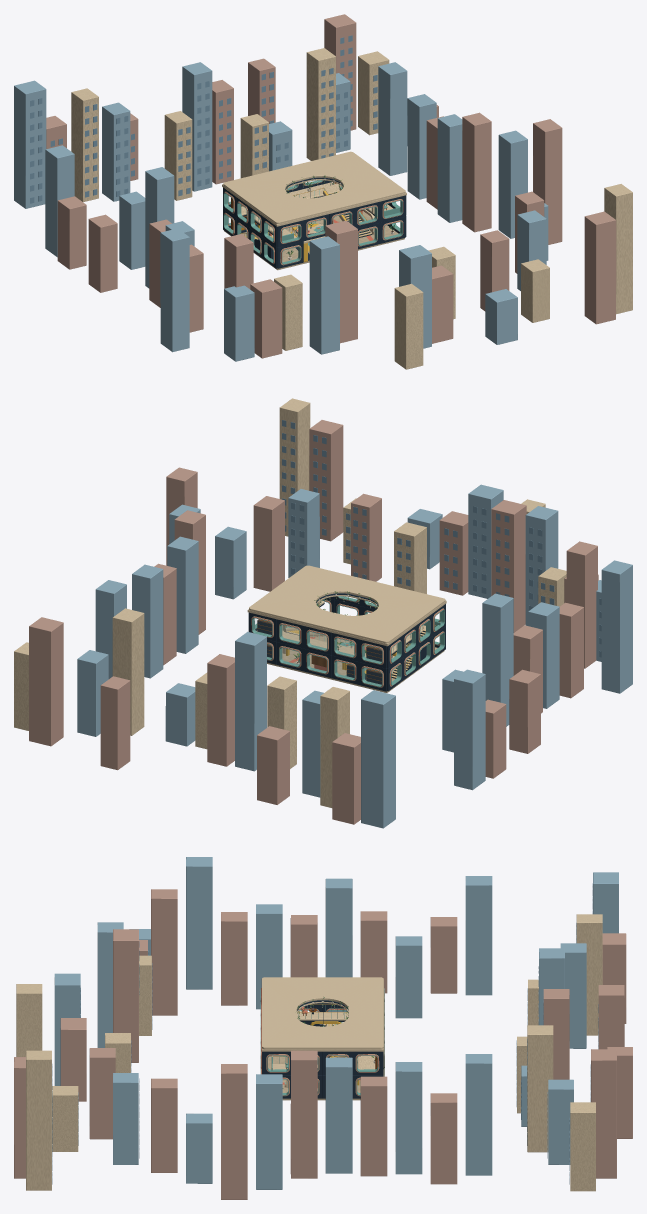
File: atrium-desktop.glb
The picture shows the model from 3 angles, top to bottom: view 1: azimuth 30°, elevation 25°; view 2: azimuth 150°, elevation 25°; view 3: azimuth 270°, elevation 25°; orthographic projection. The views are drawn at different scales.
Visible parts, largest first — view 1: Atrium_CityBlue_north, Atrium_CityBlue_south, Atrium_CityRose_south, Atrium_Ivory_north, Atrium_Ivory_interior, Atrium_Ivory_south, Atrium_CityRose_north, Atrium_CityBlue_east, Atrium_CityRose_east, Atrium_CityWindow_north, Atrium_CityRose_west, Atrium_CityBlue_west (+4 smaller); view 2: Atrium_CityBlue_north, Atrium_CityRose_south, Atrium_CityRose_north, Atrium_CityBlue_south, Atrium_Ivory_interior, Atrium_Ivory_north, Atrium_CityBlue_west, Atrium_CityRose_west, Atrium_Ivory_south, Atrium_CityBlue_east, Atrium_Navy_interior, Atrium_CityRose_east (+5 smaller); view 3: Atrium_CityRose_south, Atrium_CityRose_north, Atrium_CityBlue_north, Atrium_CityBlue_south, Atrium_CityRose_east, Atrium_CityBlue_east, Atrium_Ivory_interior, Atrium_Ivory_south, Atrium_Ivory_north, Atrium_CityBlue_west, Atrium_CityRose_west, Atrium_Navy_interior (+3 smaller).
Boxes of the visible parts, x1,y1,x2,y2 form: Atrium_CityBlue_north: [14, 62, 407, 257]; Atrium_CityBlue_south: [160, 203, 548, 361]; Atrium_CityRose_south: [224, 191, 616, 358]; Atrium_Ivory_north: [71, 48, 389, 202]; Atrium_Ivory_interior: [222, 151, 406, 265]; Atrium_Ivory_south: [274, 184, 632, 369]; Atrium_CityRose_north: [46, 14, 438, 269]; Atrium_CityBlue_east: [407, 94, 527, 238]; Atrium_CityRose_east: [426, 112, 562, 244]; Atrium_CityWindow_north: [30, 35, 377, 203]; Atrium_CityRose_west: [88, 214, 203, 332]; Atrium_CityBlue_west: [119, 167, 194, 288]; Atrium_CityBlue_north: [77, 580, 485, 828]; Atrium_CityRose_south: [253, 420, 598, 668]; Atrium_CityRose_north: [29, 617, 506, 824]; Atrium_CityBlue_south: [215, 484, 632, 693]; Atrium_Ivory_interior: [247, 565, 446, 687]; Atrium_Ivory_north: [14, 608, 349, 807]; Atrium_CityBlue_west: [442, 593, 559, 752]; Atrium_CityRose_west: [509, 602, 583, 753]; Atrium_Ivory_south: [279, 398, 566, 606]; Atrium_CityBlue_east: [132, 504, 200, 678]; Atrium_Navy_interior: [248, 593, 445, 691]; Atrium_CityRose_east: [154, 467, 205, 665]; Atrium_CityRose_south: [14, 889, 177, 1178]; Atrium_CityRose_north: [430, 917, 632, 1184]; Atrium_CityBlue_north: [465, 872, 618, 1175]; Atrium_CityBlue_south: [54, 857, 212, 1183]; Atrium_CityRose_east: [221, 1050, 387, 1199]; Atrium_CityBlue_east: [256, 1057, 422, 1189]; Atrium_Ivory_interior: [261, 977, 383, 1096]; Atrium_Ivory_south: [16, 955, 151, 1190]; Atrium_Ivory_north: [517, 914, 602, 1191]; Atrium_CityBlue_west: [256, 878, 422, 1018]; Atrium_CityRose_west: [221, 911, 387, 1005]; Atrium_Navy_interior: [262, 1000, 383, 1098].
Bounding box in the file's own units: 69.94 × 19.45 × 83.24.
18 materials, 4 textured.
